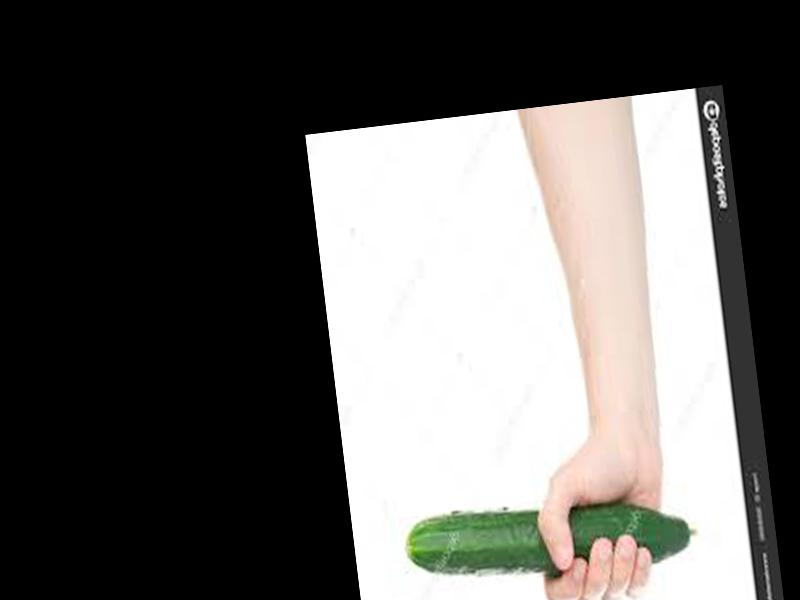Cucumber: (403, 485, 698, 592)
